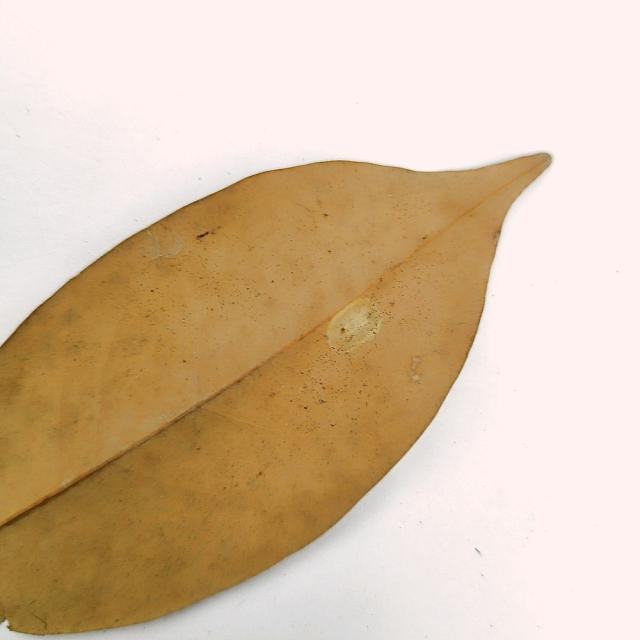Dry_Leaf-Lychee: (0, 152, 554, 637)
